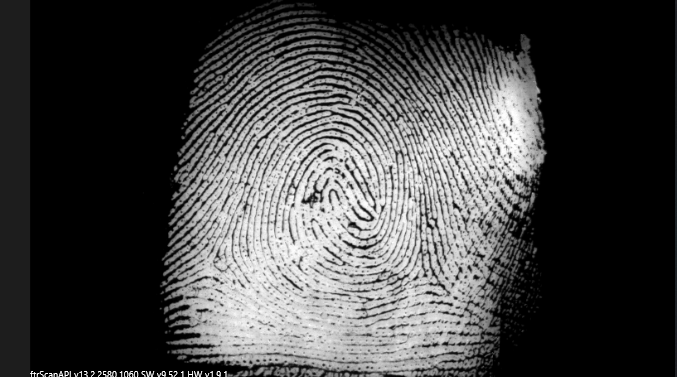nucelo: (318, 175, 353, 217)
verticilo: (411, 262, 450, 290), (198, 250, 226, 274)
